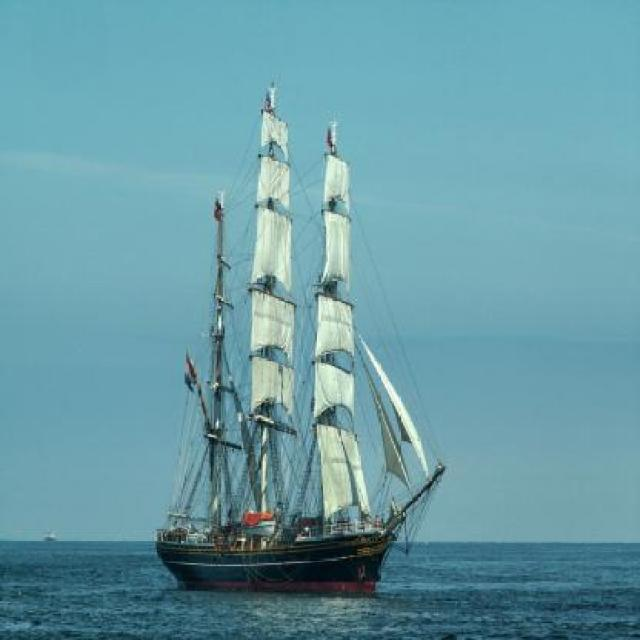ship: (153, 82, 447, 590)
